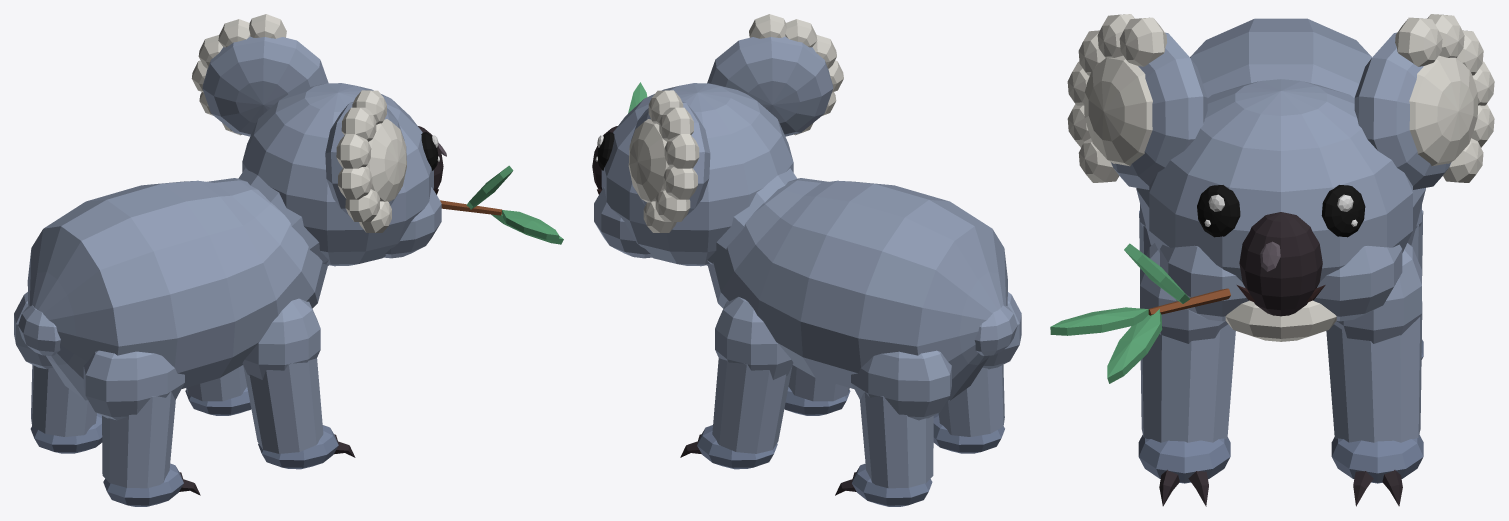
The model's file is koala.glb.
3 renders of one model, left to right at view 1: azimuth 30°, elevation 25°; view 2: azimuth 150°, elevation 25°; view 3: azimuth 270°, elevation 25°, orthographic. The views are drawn at different scales.
Parts seen in each view (by area): view 1: body, head, leg_br, leg_fr, leg_bl, leg_fl, tail; view 2: body, head, leg_bl, leg_fl, leg_br, leg_fr, tail; view 3: head, leg_fl, leg_fr, body.
Part boxes in pixels (<box>): body: <box>27,178,327,400</box>; head: <box>191,14,563,266</box>; leg_br: <box>83,350,200,506</box>; leg_fr: <box>242,298,355,469</box>; leg_bl: <box>14,292,102,453</box>; leg_fl: <box>185,365,251,415</box>; tail: <box>18,305,60,355</box>; body: <box>707,178,1007,400</box>; head: <box>592,14,843,266</box>; leg_bl: <box>835,350,951,506</box>; leg_fl: <box>680,297,793,469</box>; leg_br: <box>933,292,1021,453</box>; leg_fr: <box>784,365,850,415</box>; tail: <box>974,305,1017,355</box>; head: <box>1050,14,1494,383</box>; leg_fl: <box>1326,243,1423,506</box>; leg_fr: <box>1138,243,1235,506</box>; body: <box>1136,18,1425,245</box>.
Bounding box in the file's own units: 1.81 × 1.35 × 1.1.
